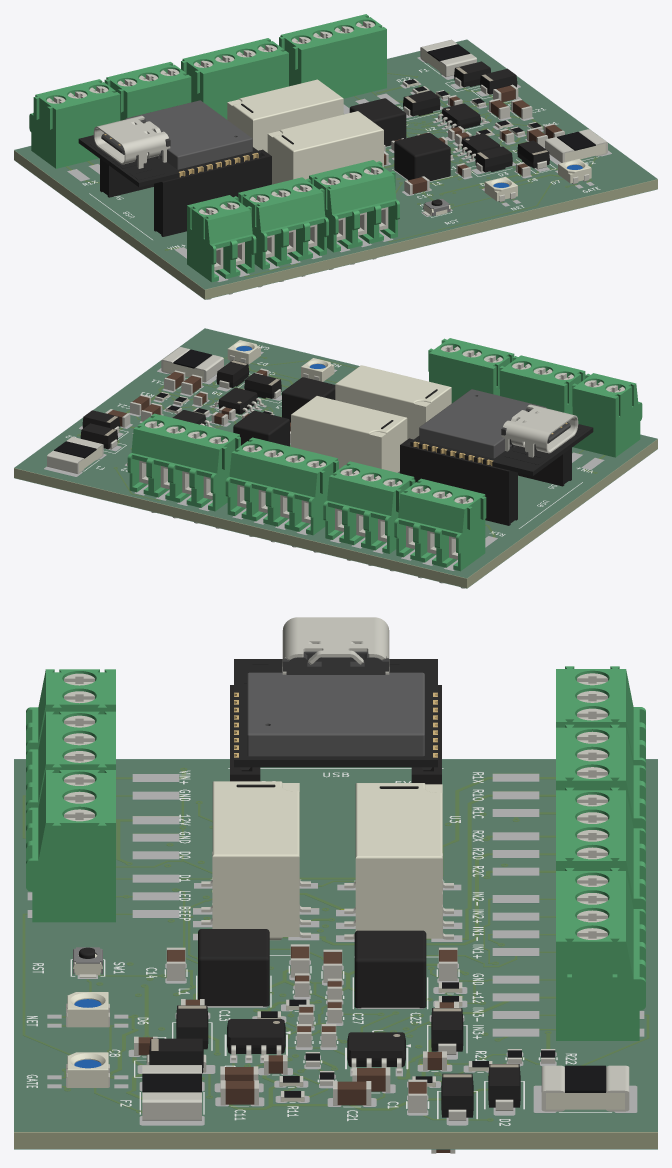
Rendered from main.glb.
3 views of the same model, one above another, from view 1: azimuth 30°, elevation 25°; view 2: azimuth 150°, elevation 25°; view 3: azimuth 270°, elevation 25° (orthographic). The views are drawn at different scales.
Parts seen in each view (by area): view 1: =>[0:1:1:57], =>[0:1:1:55], =>[0:1:1:5] (×4), =>[0:1:1:17] (×2), =>[0:1:1:39] (×2), =>[0:1:1:35], =>[0:1:1:33] (×2), =>[0:1:1:31], =>[0:1:1:19] (×2), =>[0:1:1:11] (×5), =>[0:1:1:9] (×2), =>[0:1:1:37] (+6 smaller); view 2: =>[0:1:1:57], =>[0:1:1:5] (×4), =>[0:1:1:55], =>[0:1:1:17] (×2), =>[0:1:1:39] (×2), =>[0:1:1:35], =>[0:1:1:33] (×2), =>[0:1:1:31], =>[0:1:1:9] (×2), =>[0:1:1:37], =>[0:1:1:19] (×2), =>[0:1:1:11] (×4) (+5 smaller); view 3: =>[0:1:1:55], =>[0:1:1:57], =>[0:1:1:5] (×4), =>[0:1:1:39] (×2), =>[0:1:1:17] (×2), =>[0:1:1:35], =>[0:1:1:51], =>[0:1:1:19] (×2), =>[0:1:1:9] (×2), =>[0:1:1:11] (×5), =>[0:1:1:37], =>[0:1:1:50] (+7 smaller).
Boxes of the visible parts, <box> form: =>[0:1:1:57]: <box>14,40,657,299</box>; =>[0:1:1:55]: <box>14,39,657,289</box>; =>[0:1:1:5] (×4): <box>29,62,399,287</box>; =>[0:1:1:17] (×2): <box>181,14,386,119</box>; =>[0:1:1:39] (×2): <box>227,79,383,184</box>; =>[0:1:1:35]: <box>78,100,261,187</box>; =>[0:1:1:33] (×2): <box>100,149,271,236</box>; =>[0:1:1:31]: <box>187,195,256,299</box>; =>[0:1:1:19] (×2): <box>349,98,450,180</box>; =>[0:1:1:11] (×5): <box>403,61,549,172</box>; =>[0:1:1:9] (×2): <box>420,39,607,162</box>; =>[0:1:1:37]: <box>93,115,170,168</box>; =>[0:1:1:57]: <box>14,329,657,588</box>; =>[0:1:1:5] (×4): <box>323,338,585,588</box>; =>[0:1:1:55]: <box>14,328,657,578</box>; =>[0:1:1:17] (×2): <box>127,413,338,552</box>; =>[0:1:1:39] (×2): <box>291,365,451,473</box>; =>[0:1:1:35]: <box>410,389,593,475</box>; =>[0:1:1:33] (×2): <box>400,438,571,525</box>; =>[0:1:1:31]: <box>572,373,642,457</box>; =>[0:1:1:9] (×2): <box>47,347,223,474</box>; =>[0:1:1:37]: <box>501,404,578,457</box>; =>[0:1:1:19] (×2): <box>233,377,335,446</box>; =>[0:1:1:11] (×4): <box>80,360,281,449</box>; =>[0:1:1:55]: <box>14,759,657,1131</box>; =>[0:1:1:57]: <box>14,760,657,1148</box>; =>[0:1:1:5] (×4): <box>26,666,645,922</box>; =>[0:1:1:39] (×2): <box>201,781,453,940</box>; =>[0:1:1:17] (×2): <box>556,787,645,1040</box>; =>[0:1:1:35]: <box>234,659,437,767</box>; =>[0:1:1:51]: <box>27,774,644,1125</box>; =>[0:1:1:19] (×2): <box>198,929,426,1008</box>; =>[0:1:1:9] (×2): <box>142,1065,629,1120</box>; =>[0:1:1:11] (×5): <box>146,1005,520,1120</box>; =>[0:1:1:37]: <box>282,617,389,674</box>; =>[0:1:1:50]: <box>23,768,648,1120</box>.
Size of the model in its own units: 0.0741 by 0.0176 by 0.054.
